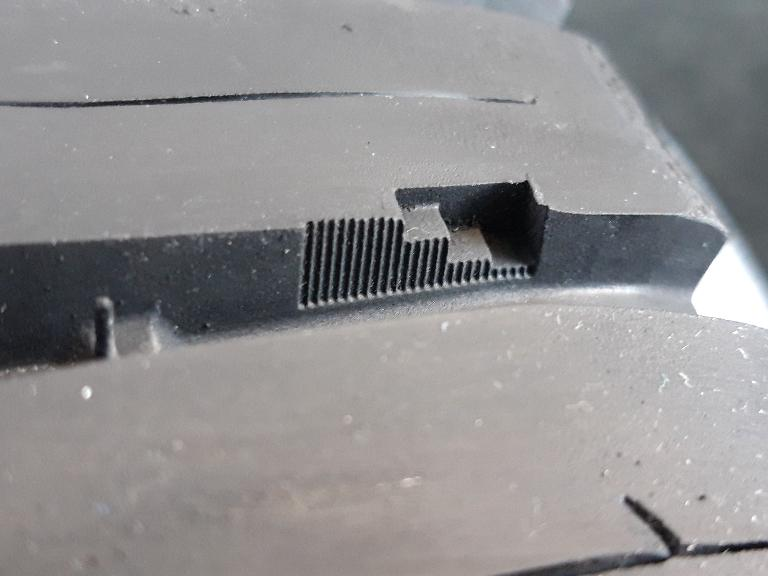temoin:75: (346, 173, 562, 318)
